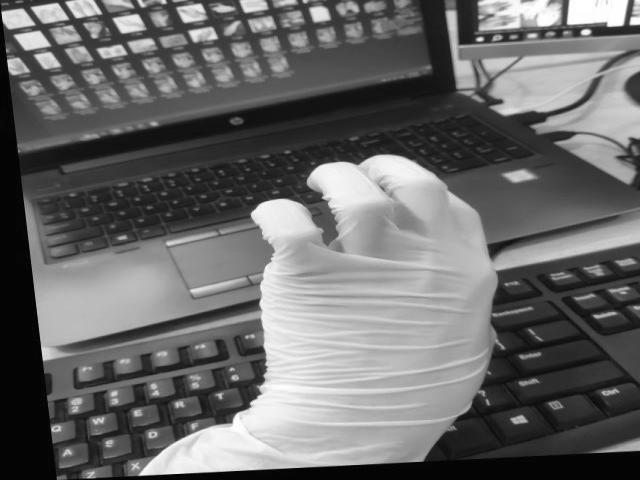gloved: (245, 153, 499, 480)
